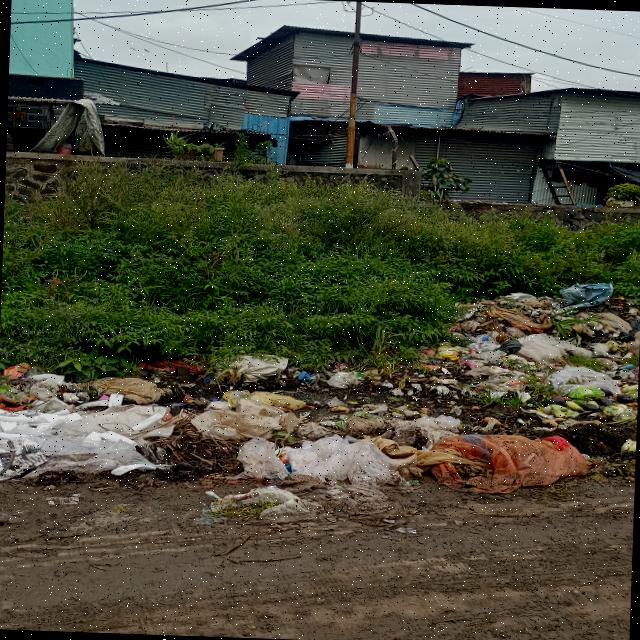garbage: (0, 331, 427, 499), (431, 290, 636, 488)
